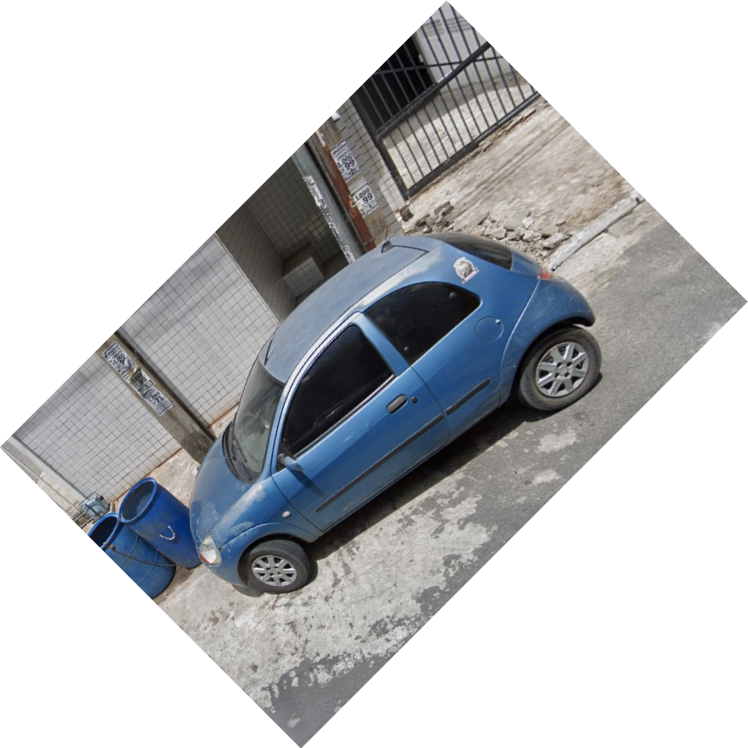car: (183, 217, 604, 604)
